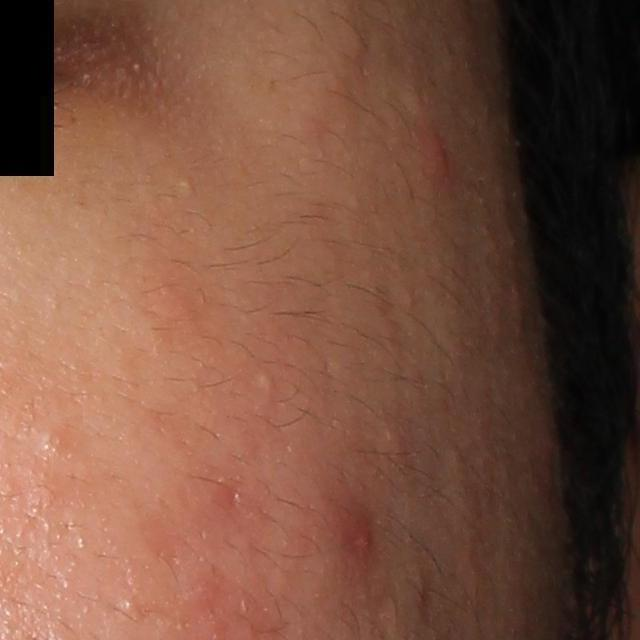comedo: (31, 420, 80, 464), (254, 367, 278, 396), (122, 597, 138, 610)
other: (176, 177, 195, 194)
papule: (416, 118, 458, 190), (349, 521, 374, 555)
